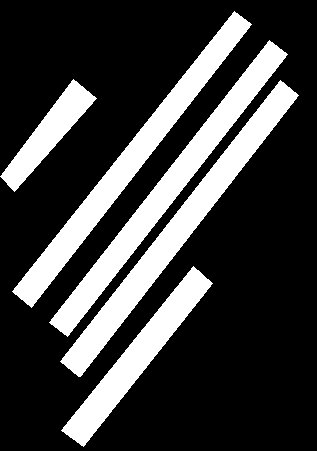parkingspot: (12, 11, 251, 307), (49, 40, 287, 336), (60, 80, 298, 376), (61, 266, 212, 446), (0, 79, 96, 191)
